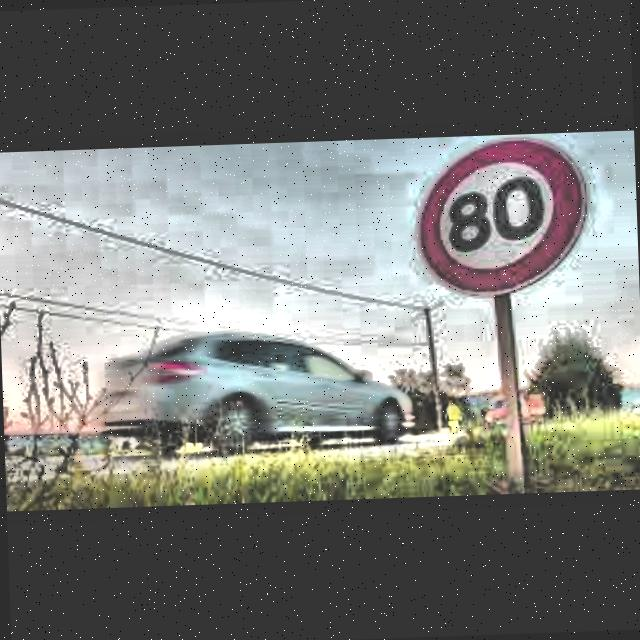speed_80: (416, 136, 587, 295)
